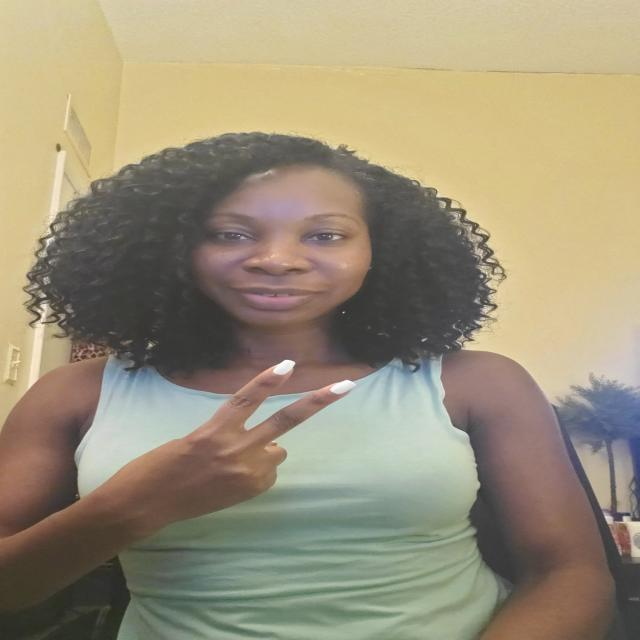Scissors: (100, 356, 364, 530)
